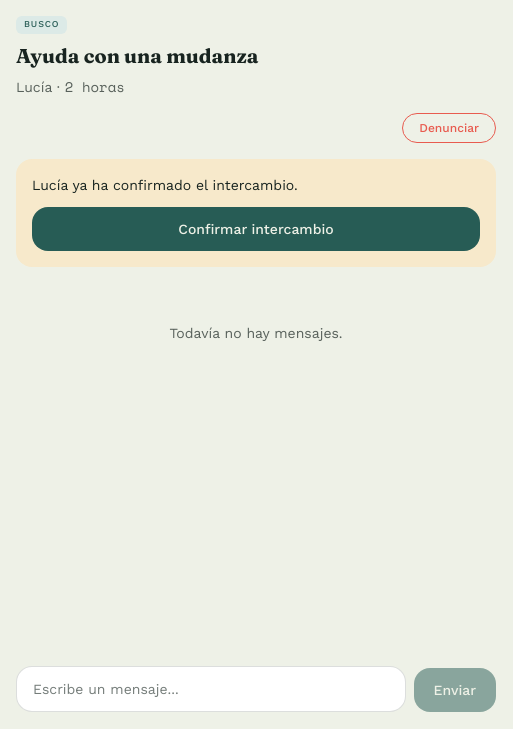
Scenario: Confirmar intercambio desde el chat › si la otra persona ya confirmó lo avisa, y al confirmar queda cerrado
Expected: the text "Lucía ya ha confirmado el intercambio." is shown, [32,177,298,193]
What coordinates should you click on to do the following:
click the button "Confirmar intercambio"
I would click on:
 (256, 229)
Its box is [32,207,480,251].
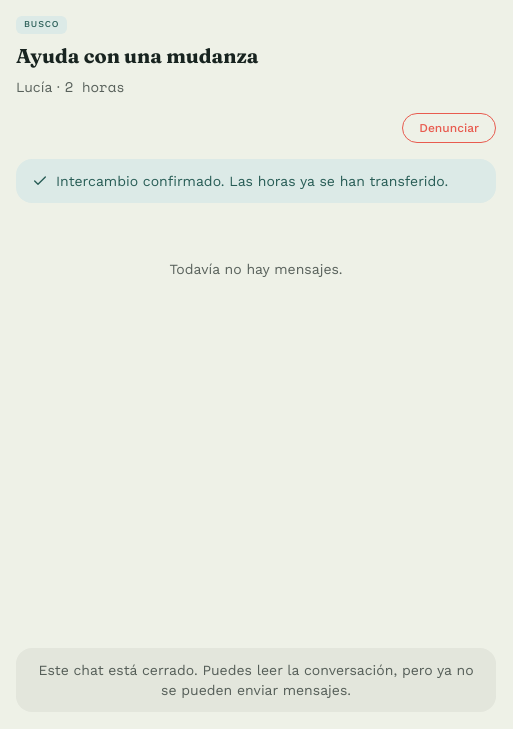
Expected: the text "Intercambio confirmado. Las horas ya se han transferido." is shown, [16,159,496,203]
Expected: the button "Confirmar intercambio" is gone
